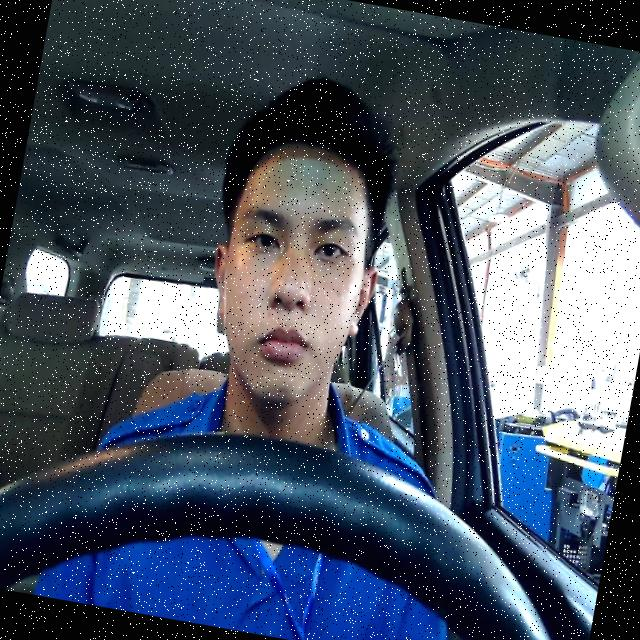focused: (192, 128, 398, 418)
